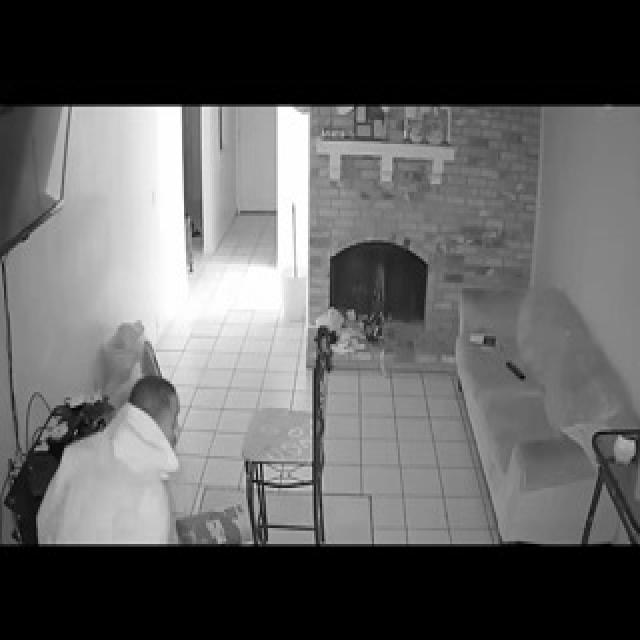thief: (116, 358, 197, 479)
